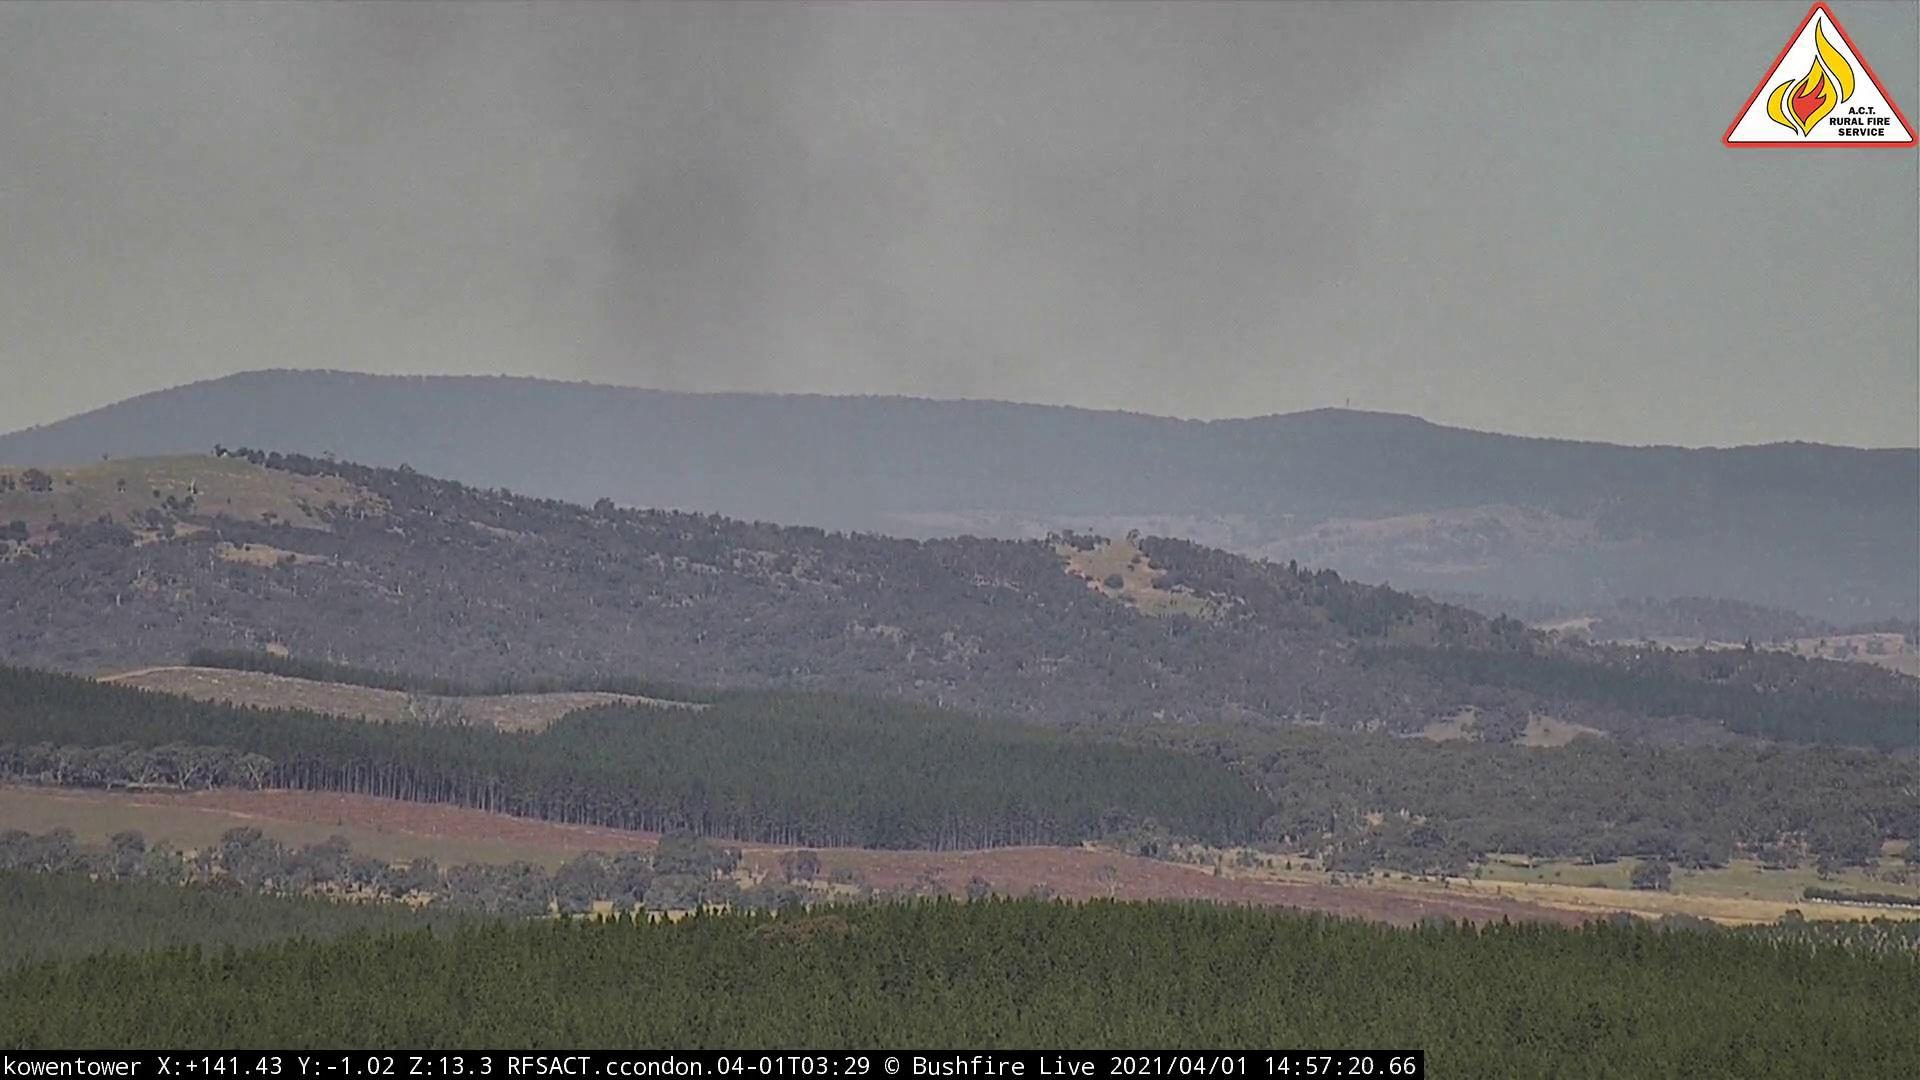Smoke: (465, 3, 1432, 400)
